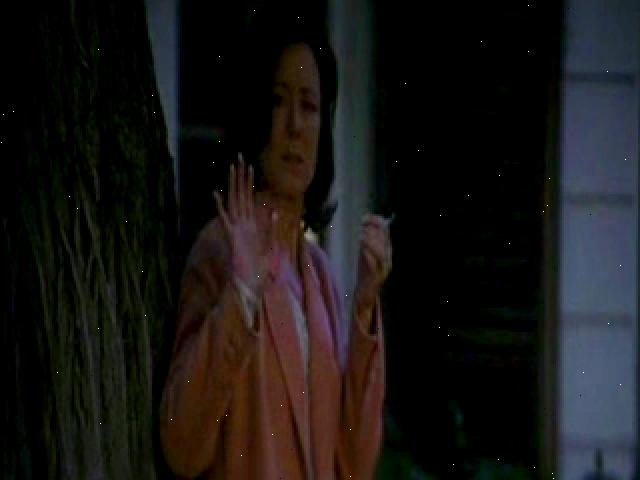T: (156, 21, 395, 480)
